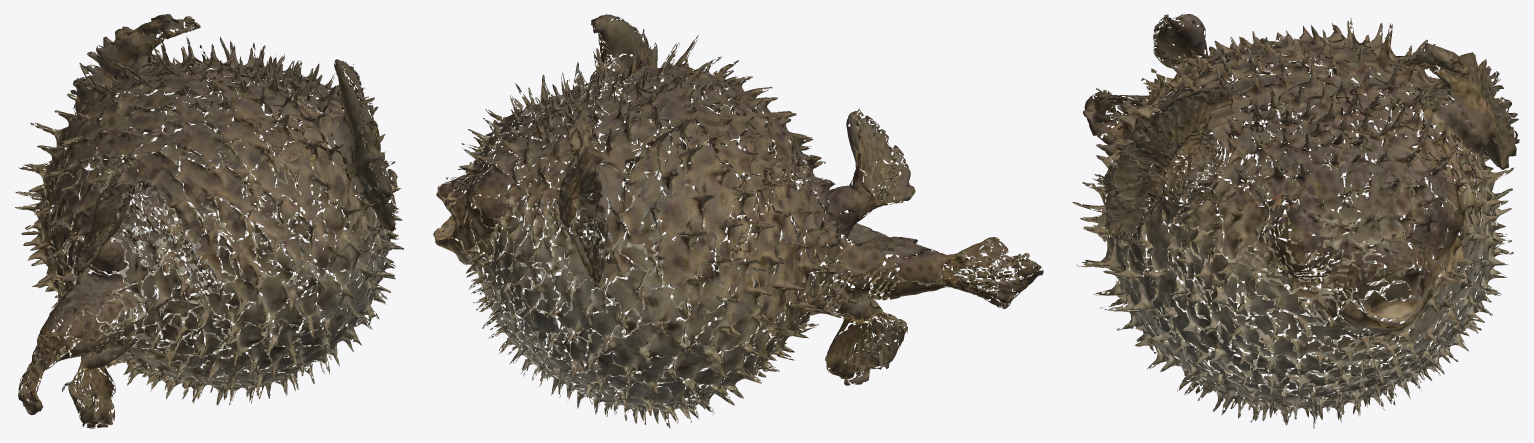
Rendered from porcupinefish.glb.
3 views of the same model, side by side, from view 1: azimuth 30°, elevation 25°; view 2: azimuth 150°, elevation 25°; view 3: azimuth 270°, elevation 25° (orthographic). The views are drawn at different scales.
Visible parts, largest first — view 1: Object_2; view 2: Object_2; view 3: Object_2.
Boxes of the visible parts, x1,y1,x2,y2 form: Object_2: (15, 14, 403, 428); Object_2: (433, 14, 1043, 428); Object_2: (1072, 14, 1519, 428).
Bounding box in the file's own units: 242 × 166 × 182.
Materials: 1 (1 with a texture image).
